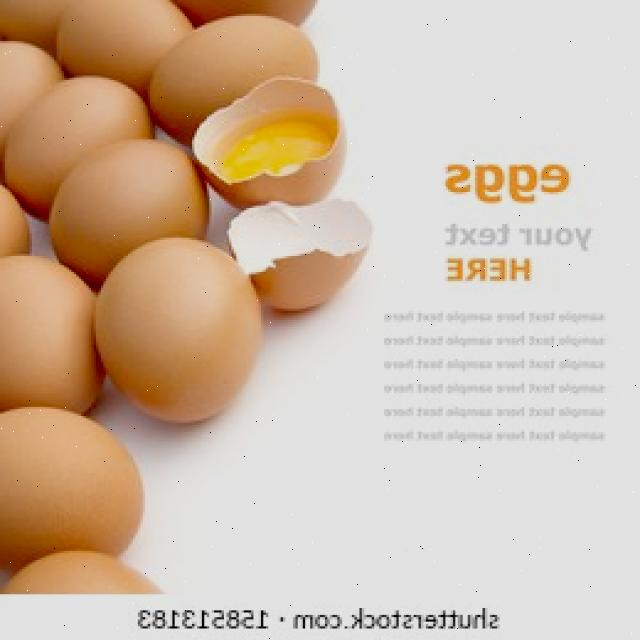Brown Egg: (97, 242, 263, 418), (49, 135, 220, 275), (0, 400, 128, 564), (0, 256, 136, 406), (143, 10, 310, 130), (2, 69, 148, 199)
